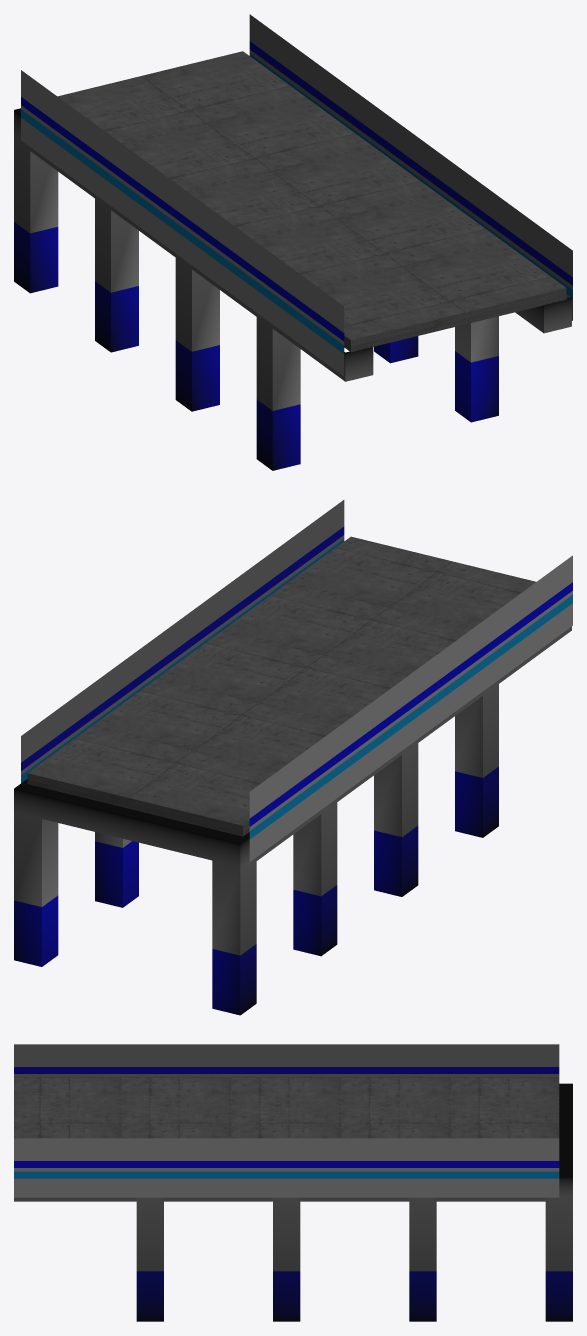
Rendered from AMB_KAMATA100.glb.
The picture shows the model from 3 angles, top to bottom: view 1: azimuth 30°, elevation 25°; view 2: azimuth 150°, elevation 25°; view 3: azimuth 270°, elevation 25°; orthographic projection. The views are drawn at different scales.
Visible parts, largest first — view 1: obj5, J06, J04, J00, J02; view 2: obj5, J00, J02, J04, J06; view 3: obj5, J00, J02, J06, J04.
Boxes of the visible parts, x1,y1,x2,y2 form: obj5: (21,14,572,381); J06: (256,313,498,470); J04: (175,254,418,411); J00: (14,108,58,293); J02: (95,194,138,352); obj5: (21,500,572,861); J00: (14,779,256,1015); J02: (95,798,337,956); J04: (374,739,418,896); J06: (455,680,498,837); obj5: (14,1044,559,1201); J00: (545,1083,572,1321); J02: (409,1197,436,1321); J06: (136,1197,163,1321); J04: (273,1197,300,1321).
Bounding box in the file's own units: 40.82 × 37.18 × 102.
12 materials, 12 textured.
